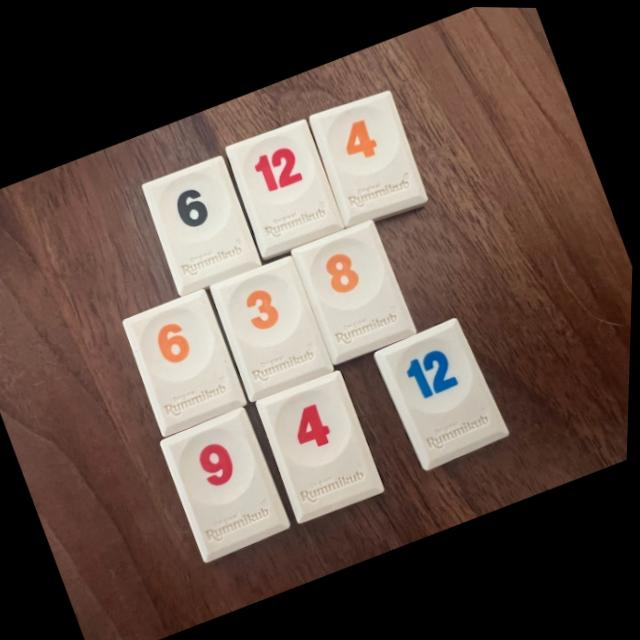black_6: (143, 155, 263, 295)
blue_12: (377, 316, 511, 468)
orange_3: (212, 256, 335, 400)
orange_4: (310, 90, 429, 223)
orange_6: (124, 289, 248, 435)
orange_8: (294, 219, 418, 362)
red_12: (227, 119, 345, 258)
red_4: (258, 369, 387, 521)
red_9: (163, 406, 293, 560)
